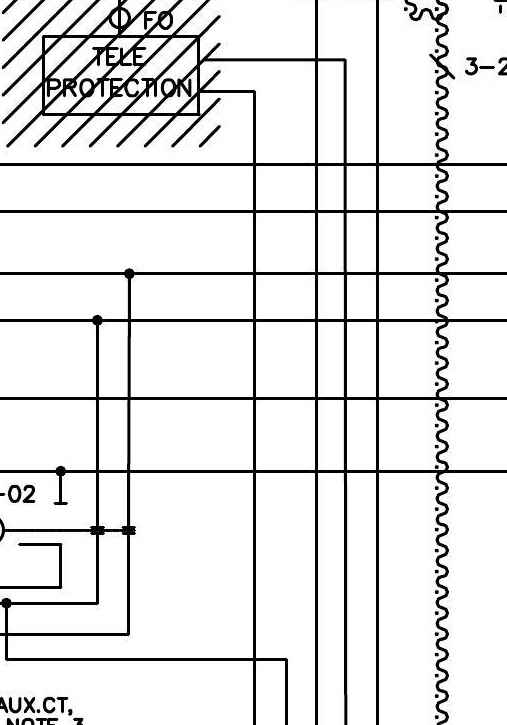tele_protection: (39, 33, 202, 119)
